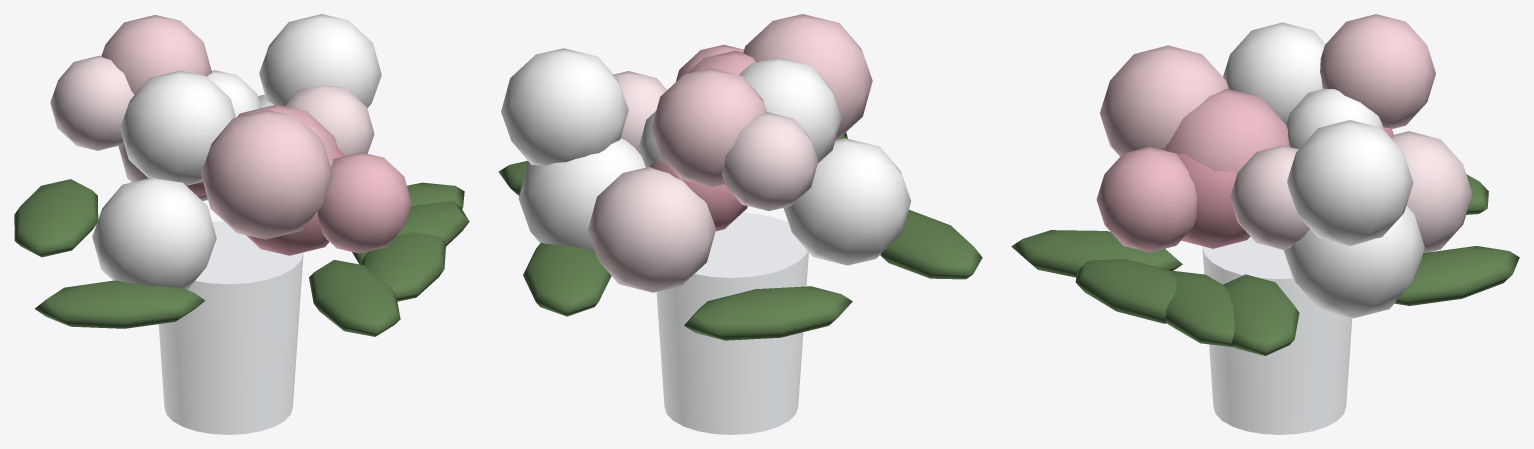
The model's file is centerpiece.glb.
The picture shows the model from 3 angles, left to right: view 1: azimuth 30°, elevation 25°; view 2: azimuth 150°, elevation 25°; view 3: azimuth 270°, elevation 25°; orthographic projection. The views are drawn at different scales.
Size of the model in its own units: 0.4778 by 0.3725 by 0.4596.
